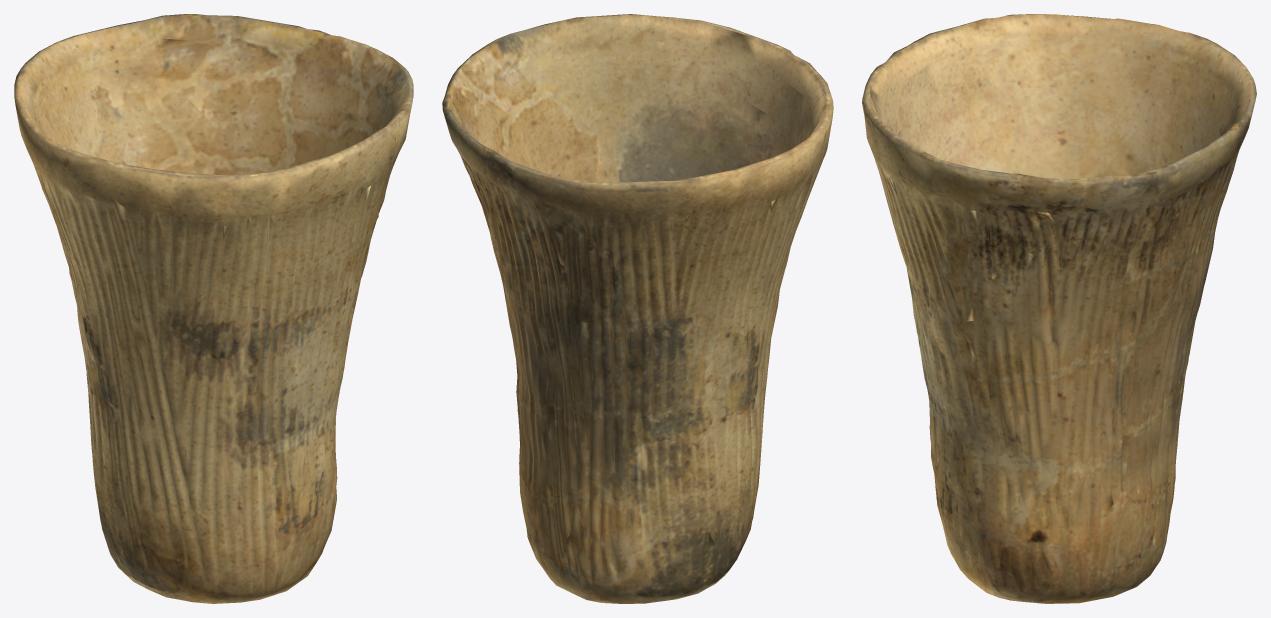
The picture shows the model from 3 angles, left to right: view 1: azimuth 30°, elevation 25°; view 2: azimuth 150°, elevation 25°; view 3: azimuth 270°, elevation 25°; orthographic projection.
Parts seen in each view (by area): view 1: TK0057_low; view 2: TK0057_low; view 3: TK0057_low.
Boxes of the visible parts, x1,y1,x2,y2 form: TK0057_low: (14,14,413,603); TK0057_low: (442,14,833,603); TK0057_low: (862,14,1256,603).
Size of the model in its own units: 176 by 230 by 173.
Materials: 1 (1 with a texture image).
